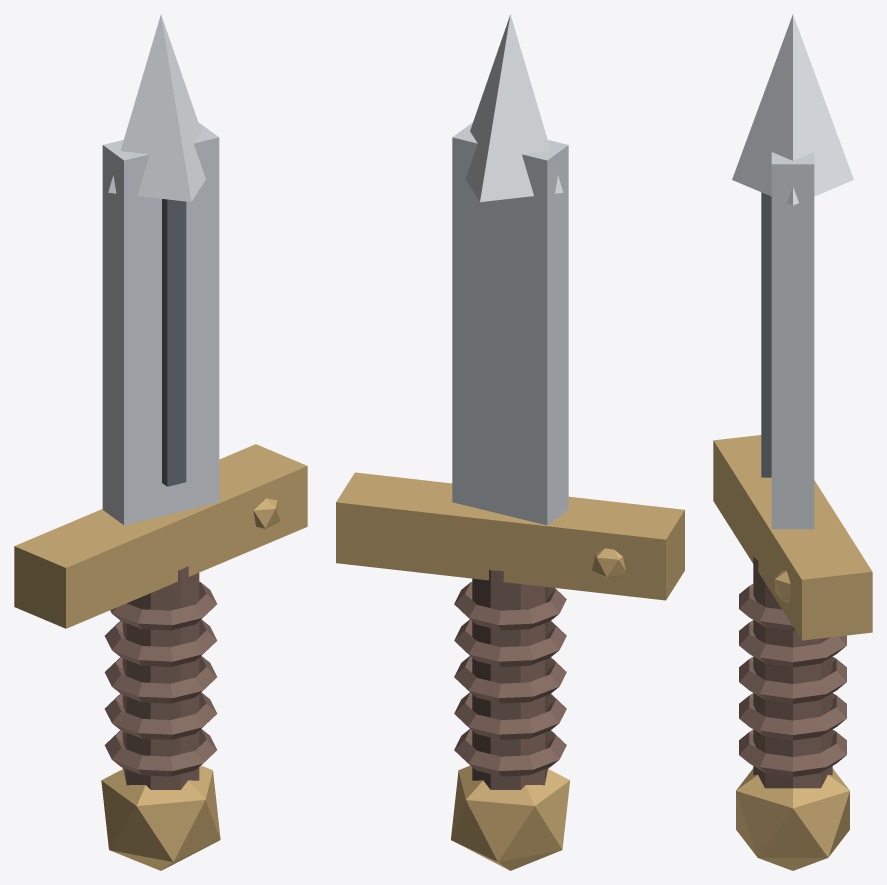
The model's file is steel_dagger.glb.
3 views of the same model, side by side, from view 1: azimuth 30°, elevation 25°; view 2: azimuth 150°, elevation 25°; view 3: azimuth 270°, elevation 25° (orthographic).
Parts seen in each view (by area): view 1: BladeCore, OrnateGuard, NeedlePoint, GemPommel, Grip, Fuller, GripWrap_0.006, GripWrap_2.006, GripWrap_1.006, GripWrap_3.006, GripWrap_4.006, Rivet_1.006; view 2: BladeCore, OrnateGuard, NeedlePoint, GemPommel, Grip, GripWrap_2.006, GripWrap_0.006, GripWrap_3.006, GripWrap_1.006, GripWrap_4.006, Rivet_0.006; view 3: BladeCore, OrnateGuard, NeedlePoint, GemPommel, Grip, Fuller, GripWrap_0.006, GripWrap_2.006, GripWrap_1.006, GripWrap_3.006, GripWrap_4.006, Rivet_1.006.
Boxes of the visible parts, <box> form: BladeCore: <box>102,122,219,525</box>; OrnateGuard: <box>14,444,307,628</box>; NeedlePoint: <box>108,14,205,201</box>; GemPommel: <box>101,765,220,870</box>; Grip: <box>122,566,199,789</box>; Fuller: <box>162,199,186,486</box>; GripWrap_0.006: <box>104,729,216,776</box>; GripWrap_2.006: <box>104,656,216,703</box>; GripWrap_1.006: <box>104,692,217,739</box>; GripWrap_3.006: <box>104,619,217,666</box>; GripWrap_4.006: <box>110,581,216,630</box>; Rivet_1.006: <box>253,498,280,529</box>; BladeCore: <box>452,122,568,525</box>; OrnateGuard: <box>336,472,684,600</box>; NeedlePoint: <box>465,14,562,201</box>; GemPommel: <box>451,765,569,870</box>; Grip: <box>472,569,548,789</box>; GripWrap_2.006: <box>454,656,566,703</box>; GripWrap_0.006: <box>454,729,566,776</box>; GripWrap_3.006: <box>454,619,566,666</box>; GripWrap_1.006: <box>454,692,566,739</box>; GripWrap_4.006: <box>454,582,566,630</box>; Rivet_0.006: <box>592,548,625,579</box>; BladeCore: <box>771,152,814,529</box>; OrnateGuard: <box>713,435,872,640</box>; NeedlePoint: <box>732,14,853,205</box>; GemPommel: <box>736,768,849,870</box>; Grip: <box>753,555,832,788</box>; Fuller: <box>761,192,771,477</box>; GripWrap_0.006: <box>739,730,846,776</box>; GripWrap_2.006: <box>739,657,846,703</box>; GripWrap_1.006: <box>739,693,846,740</box>; GripWrap_3.006: <box>739,620,846,667</box>; GripWrap_4.006: <box>739,584,795,630</box>; Rivet_1.006: <box>775,570,790,602</box>.
Bounding box in the file's own units: 0.572 × 1.55 × 0.2608.
